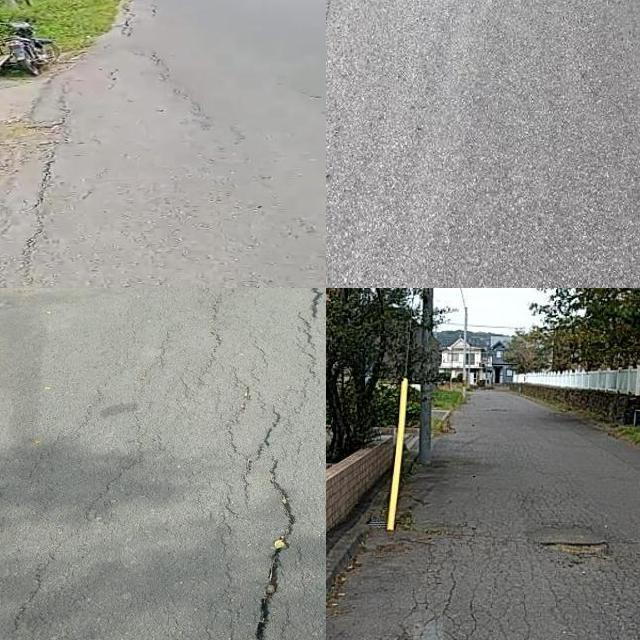Lubang: (534, 525, 622, 568)
Memanjang: (240, 407, 306, 640), (295, 288, 326, 342)
Pinggir: (0, 107, 99, 288)
Retak Buaya: (367, 520, 527, 640)
